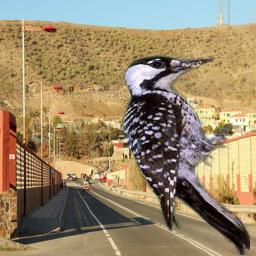Woodpecker: (120, 55, 250, 255)
